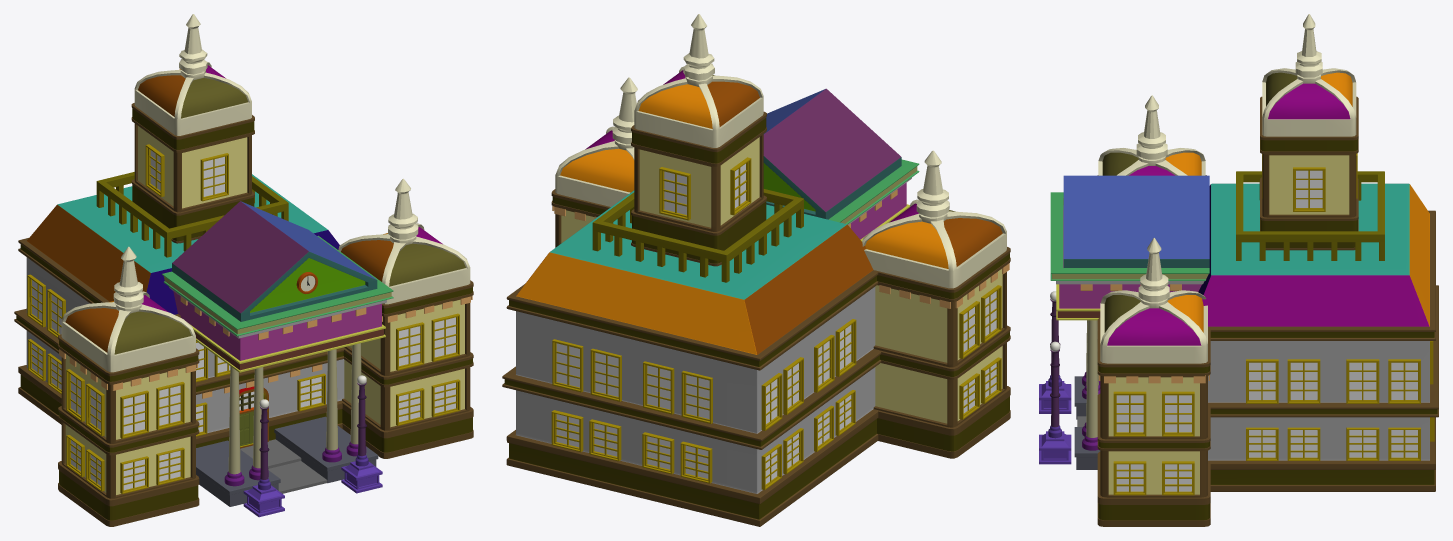
The model's file is JobBuildingFinal.fbx.
3 renders of one model, left to right at view 1: azimuth 30°, elevation 25°; view 2: azimuth 150°, elevation 25°; view 3: azimuth 270°, elevation 25°, orthographic. The views are drawn at different scales.
Parts seen in each view (by area): view 1: JobBuilding; view 2: JobBuilding; view 3: JobBuilding.
Boxes of the visible parts, left/top/right/bottom form: JobBuilding: left=14, top=14, right=473, bottom=526; JobBuilding: left=502, top=14, right=1010, bottom=526; JobBuilding: left=1039, top=14, right=1438, bottom=526.
Size of the model in its own units: 1883 by 1932 by 1674.
